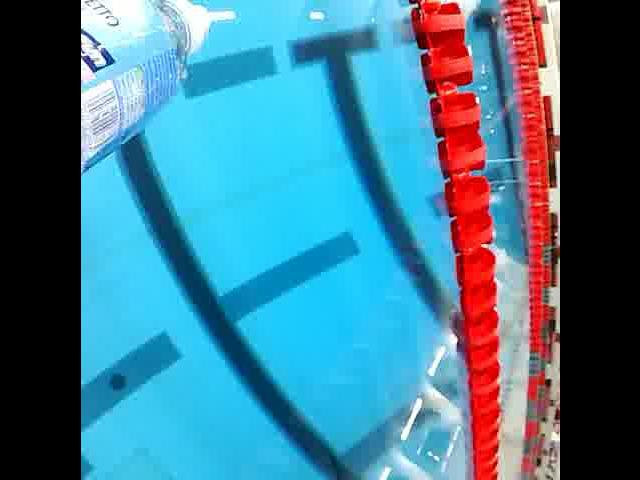Bottle: (80, 0, 216, 192)
